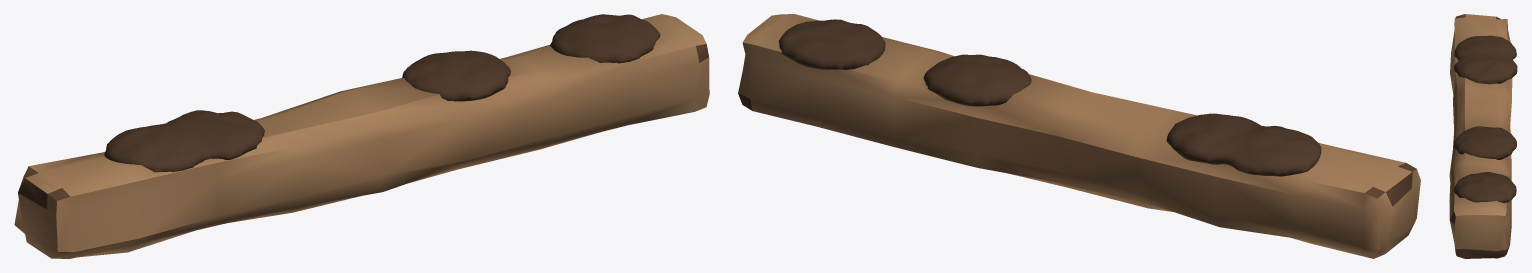
The model's file is canopy_bench_lip.glb.
3 renders of one model, left to right at view 1: azimuth 30°, elevation 25°; view 2: azimuth 150°, elevation 25°; view 3: azimuth 270°, elevation 25°, orthographic. The views are drawn at different scales.
Visible parts, largest first — view 1: canopy_bench_lip; view 2: canopy_bench_lip; view 3: canopy_bench_lip.
Part boxes in pixels (left/top/right/bottom): canopy_bench_lip: left=14, top=14, right=709, bottom=258; canopy_bench_lip: left=738, top=14, right=1420, bottom=258; canopy_bench_lip: left=1449, top=14, right=1517, bottom=258.
Size of the model in its own units: 20.16 by 2.73 by 2.84.
